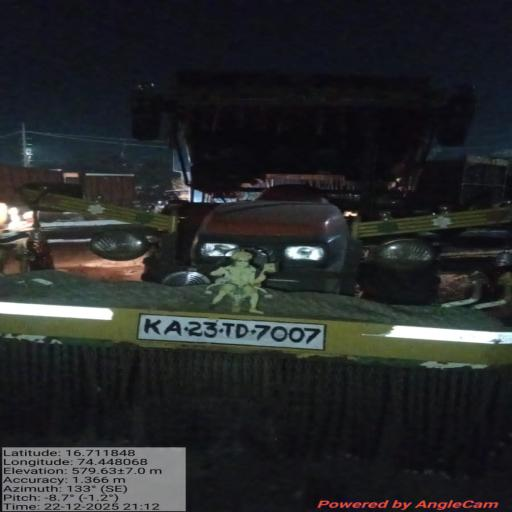number_plate: (138, 315, 325, 350)
